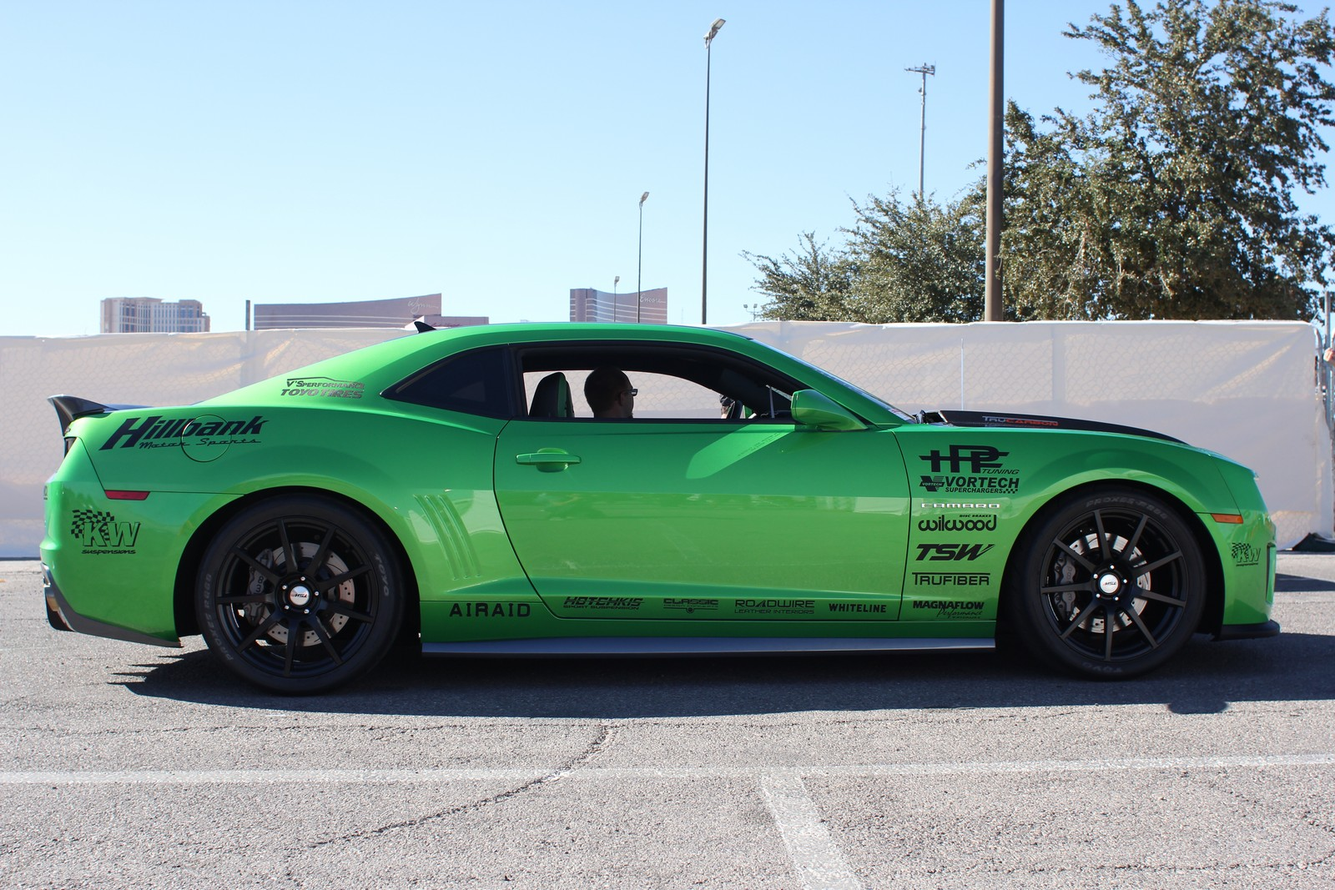other: (43, 308, 1288, 708)
